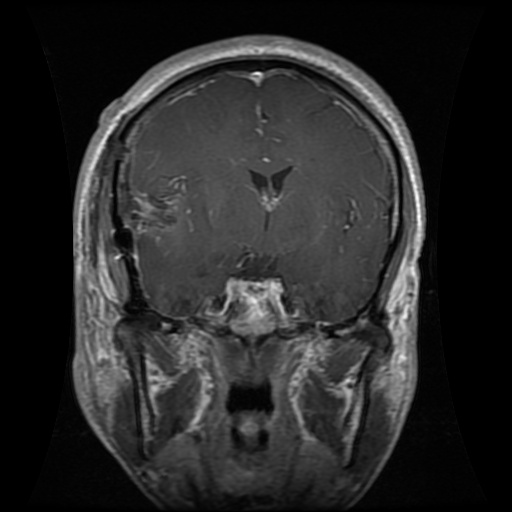glioma: (122, 170, 193, 248)
